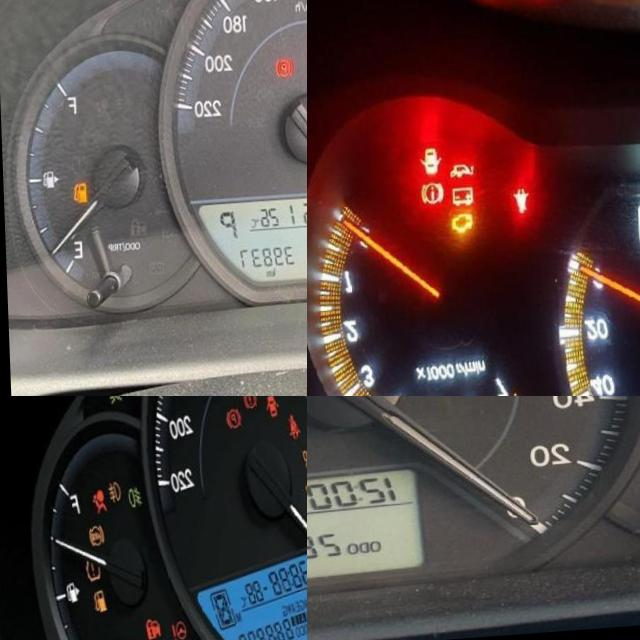Electronic Power Steering: (167, 623, 183, 640)
Seat Belt: (511, 191, 528, 219), (285, 418, 300, 446)
